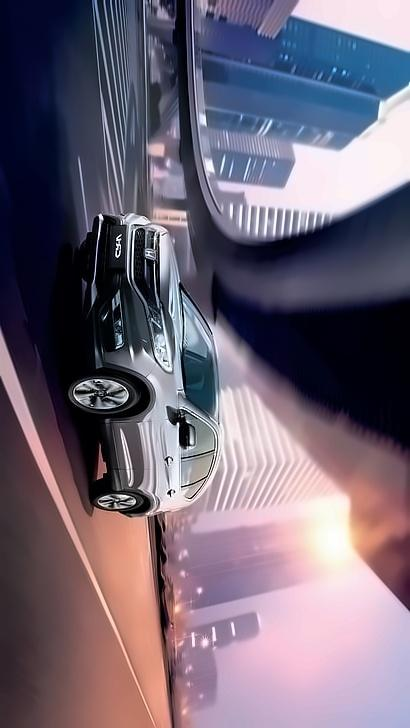Car hood: (157, 228, 191, 377)
Fender - -F-L-: (101, 361, 190, 423)
Fender - -R-L-: (144, 492, 188, 510)
Front bumper: (83, 205, 147, 376)
Headlight - -L-: (141, 299, 177, 375)
Headlight - -R-: (139, 219, 175, 239)
Passenger-s door - -F-L-: (107, 419, 223, 468)
Passenger-s door - -R-L-: (111, 461, 221, 498)
Rear bumper: (119, 509, 150, 526)
Rear light - -L-: (159, 506, 184, 521)
Side bumper - -L-: (94, 409, 124, 495)
Side mirror - -L-: (174, 416, 200, 453)
